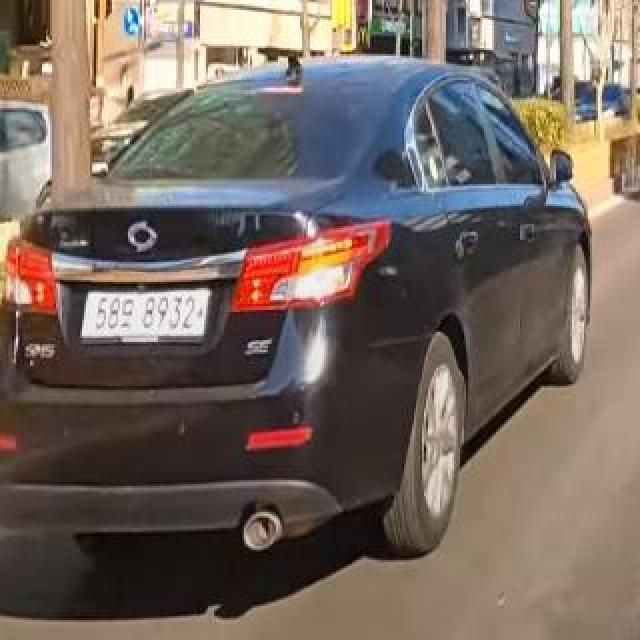car: (0, 43, 603, 569)
illegal_plate: (83, 286, 211, 344)
